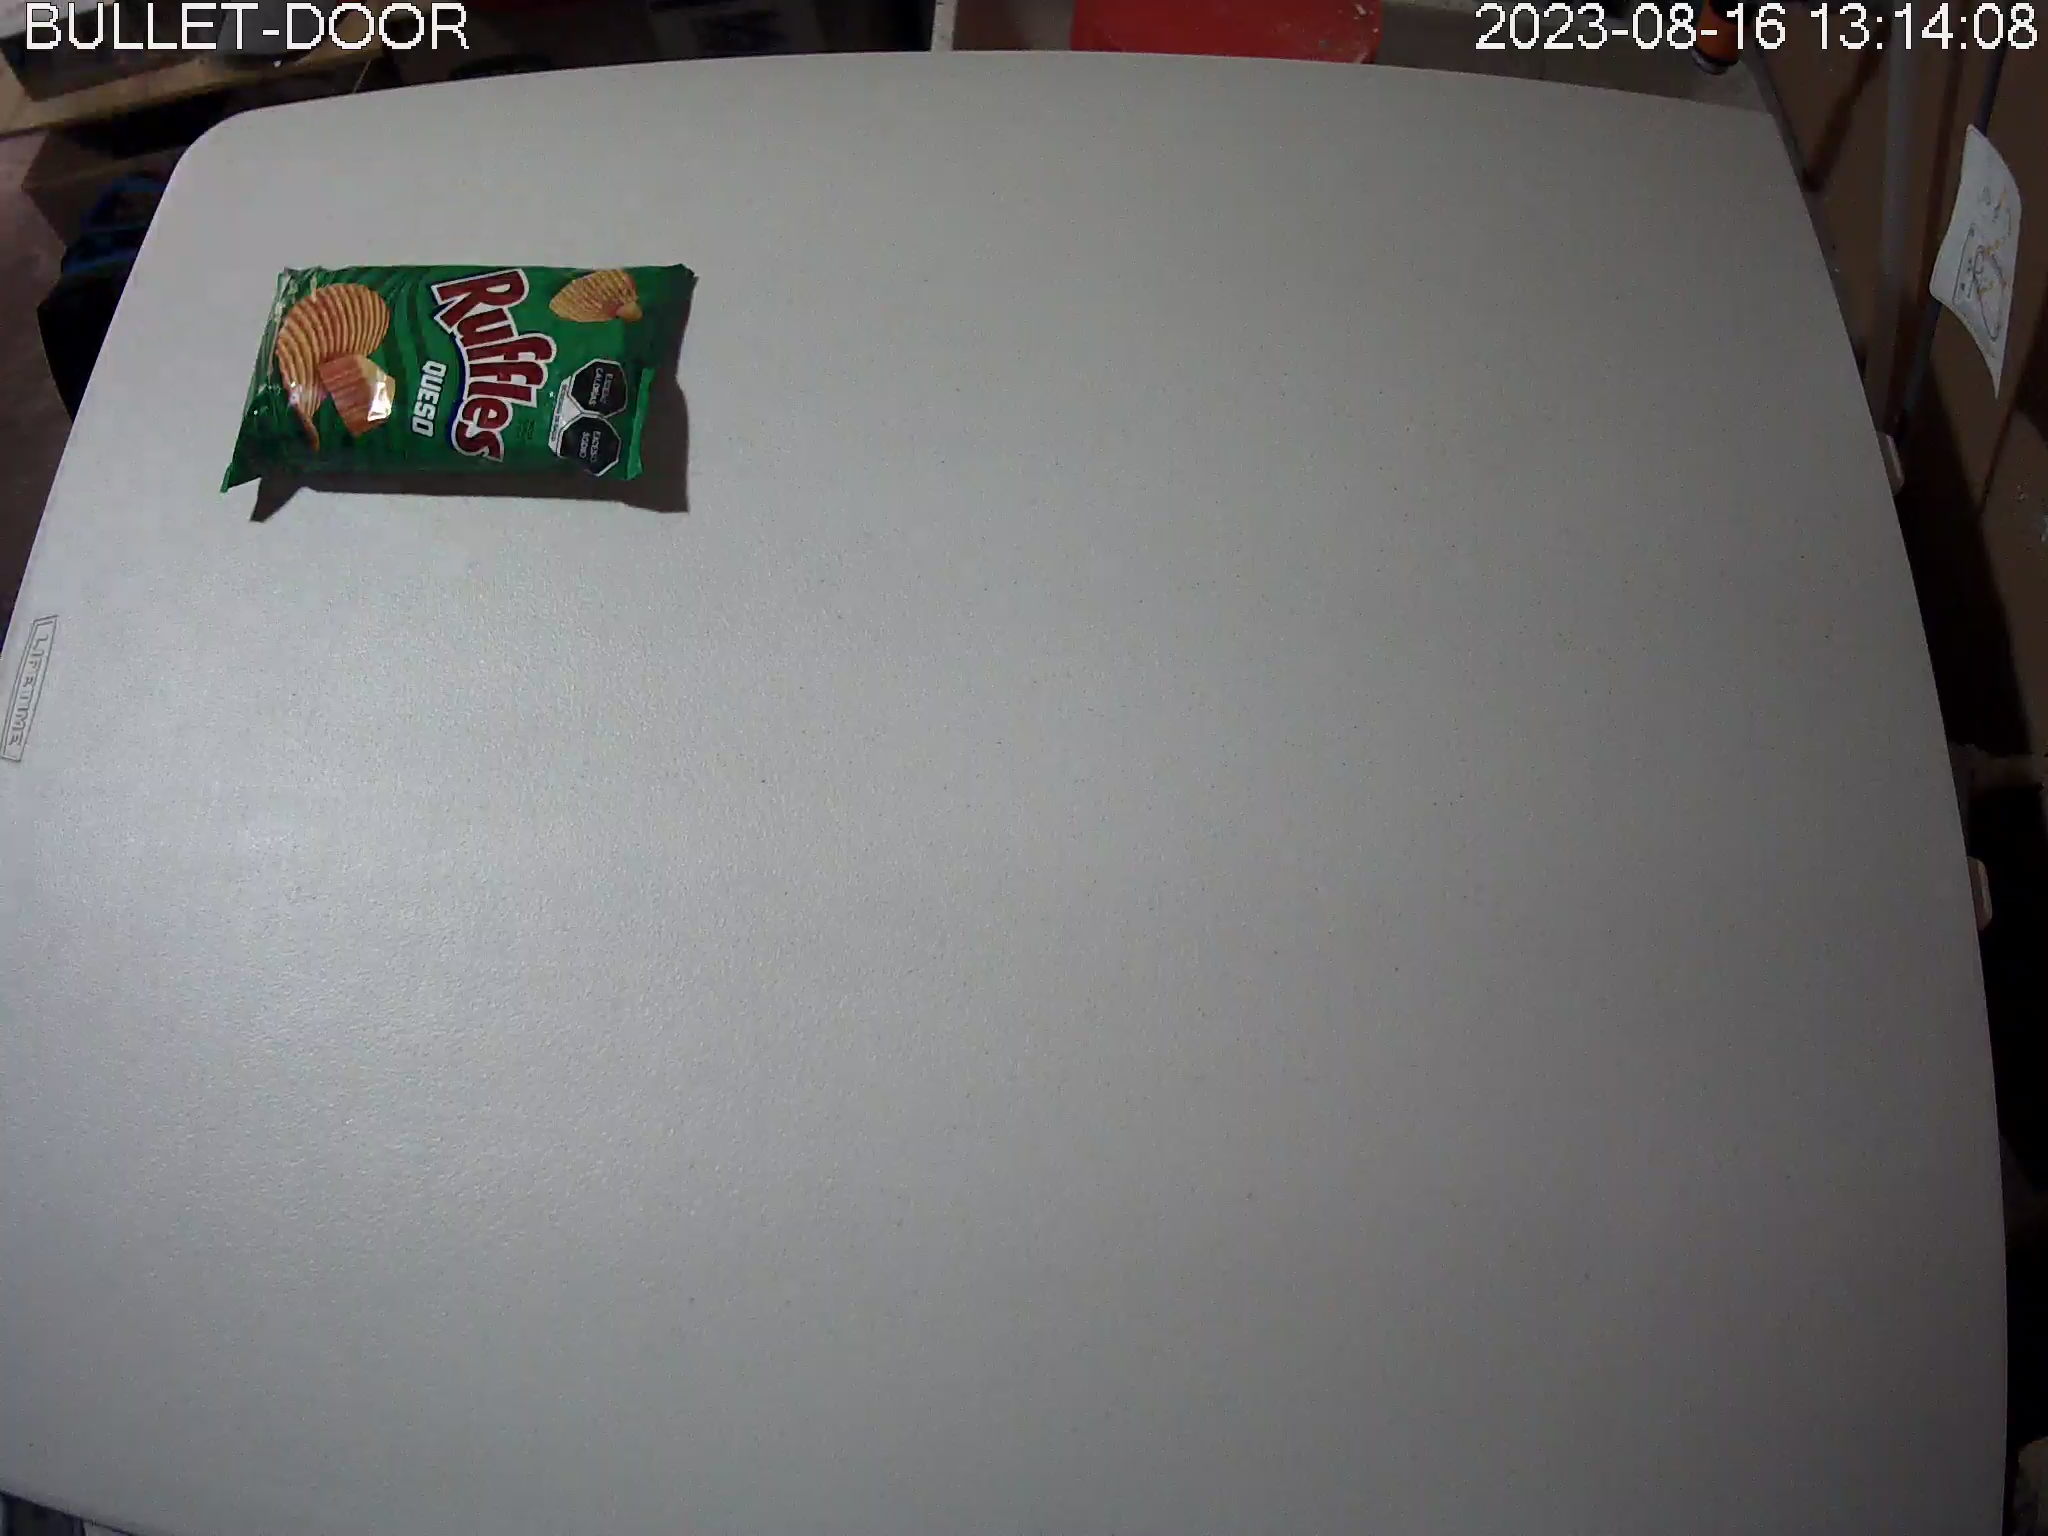RufflesQ_48_F: (219, 261, 693, 499)
